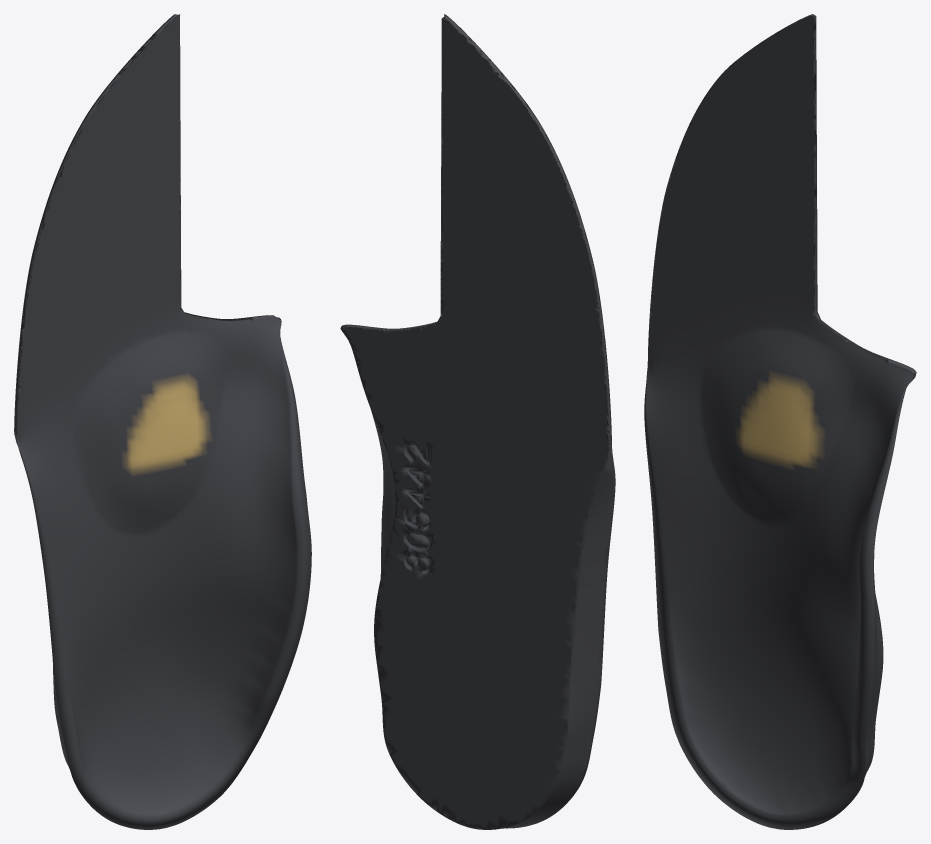
File: CPO-305442_LEFT.glb
3 renders of one model, left to right at view 1: azimuth 30°, elevation 25°; view 2: azimuth 150°, elevation 25°; view 3: azimuth 330°, elevation 25°, orthographic. The views are drawn at different scales.
Parts seen in each view (by area): view 1: geometry_0; view 2: geometry_0; view 3: geometry_0.
Part boxes in pixels (bbox=[...]): geometry_0: bbox=[14, 14, 311, 829]; geometry_0: bbox=[340, 14, 615, 829]; geometry_0: bbox=[644, 14, 916, 829].
Size of the model in its own units: 103 by 295 by 26.
